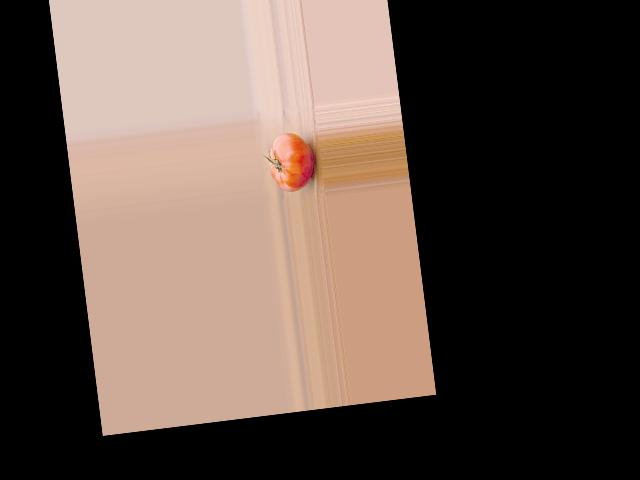tomato: (265, 129, 317, 193)
